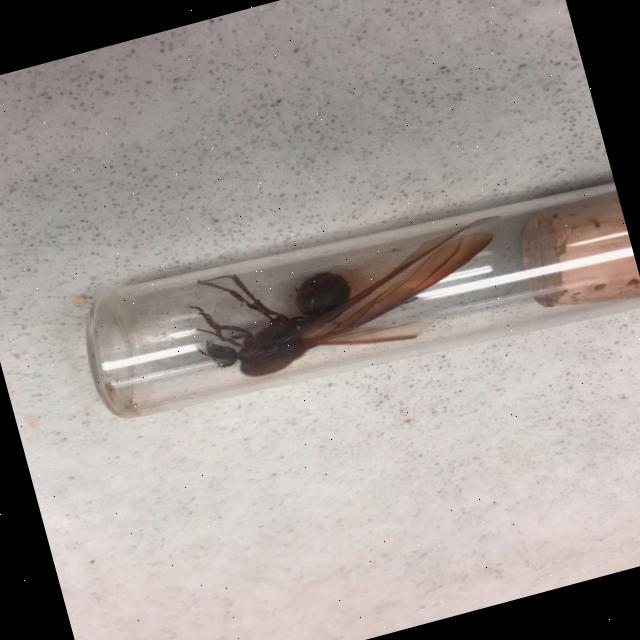Alive-Female-Alate: (179, 198, 525, 394)
